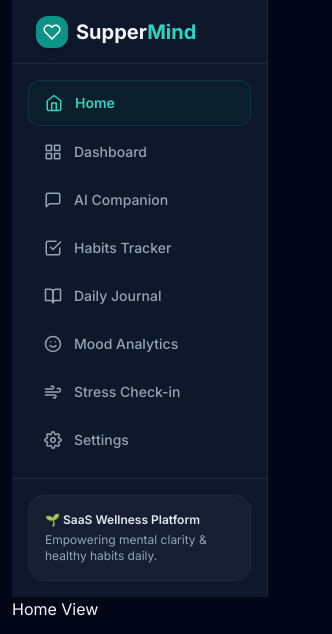
Test case: Security & Guest Navigation Verification › strictly redirects unauthenticated guests to /login when attempting to access protected routes
Click the link "AI Companion" at coordinates (106, 200), box [44,191,168,209]
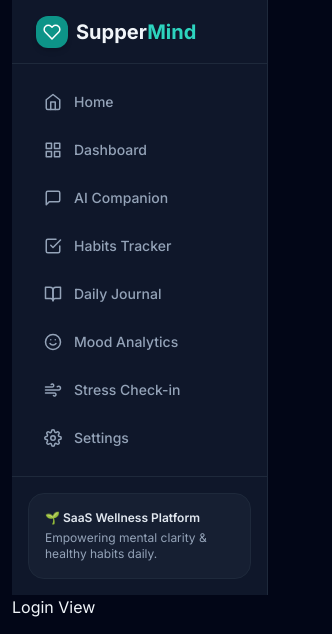
Expected: the text "Login View" is shown, [12,597,95,617]
